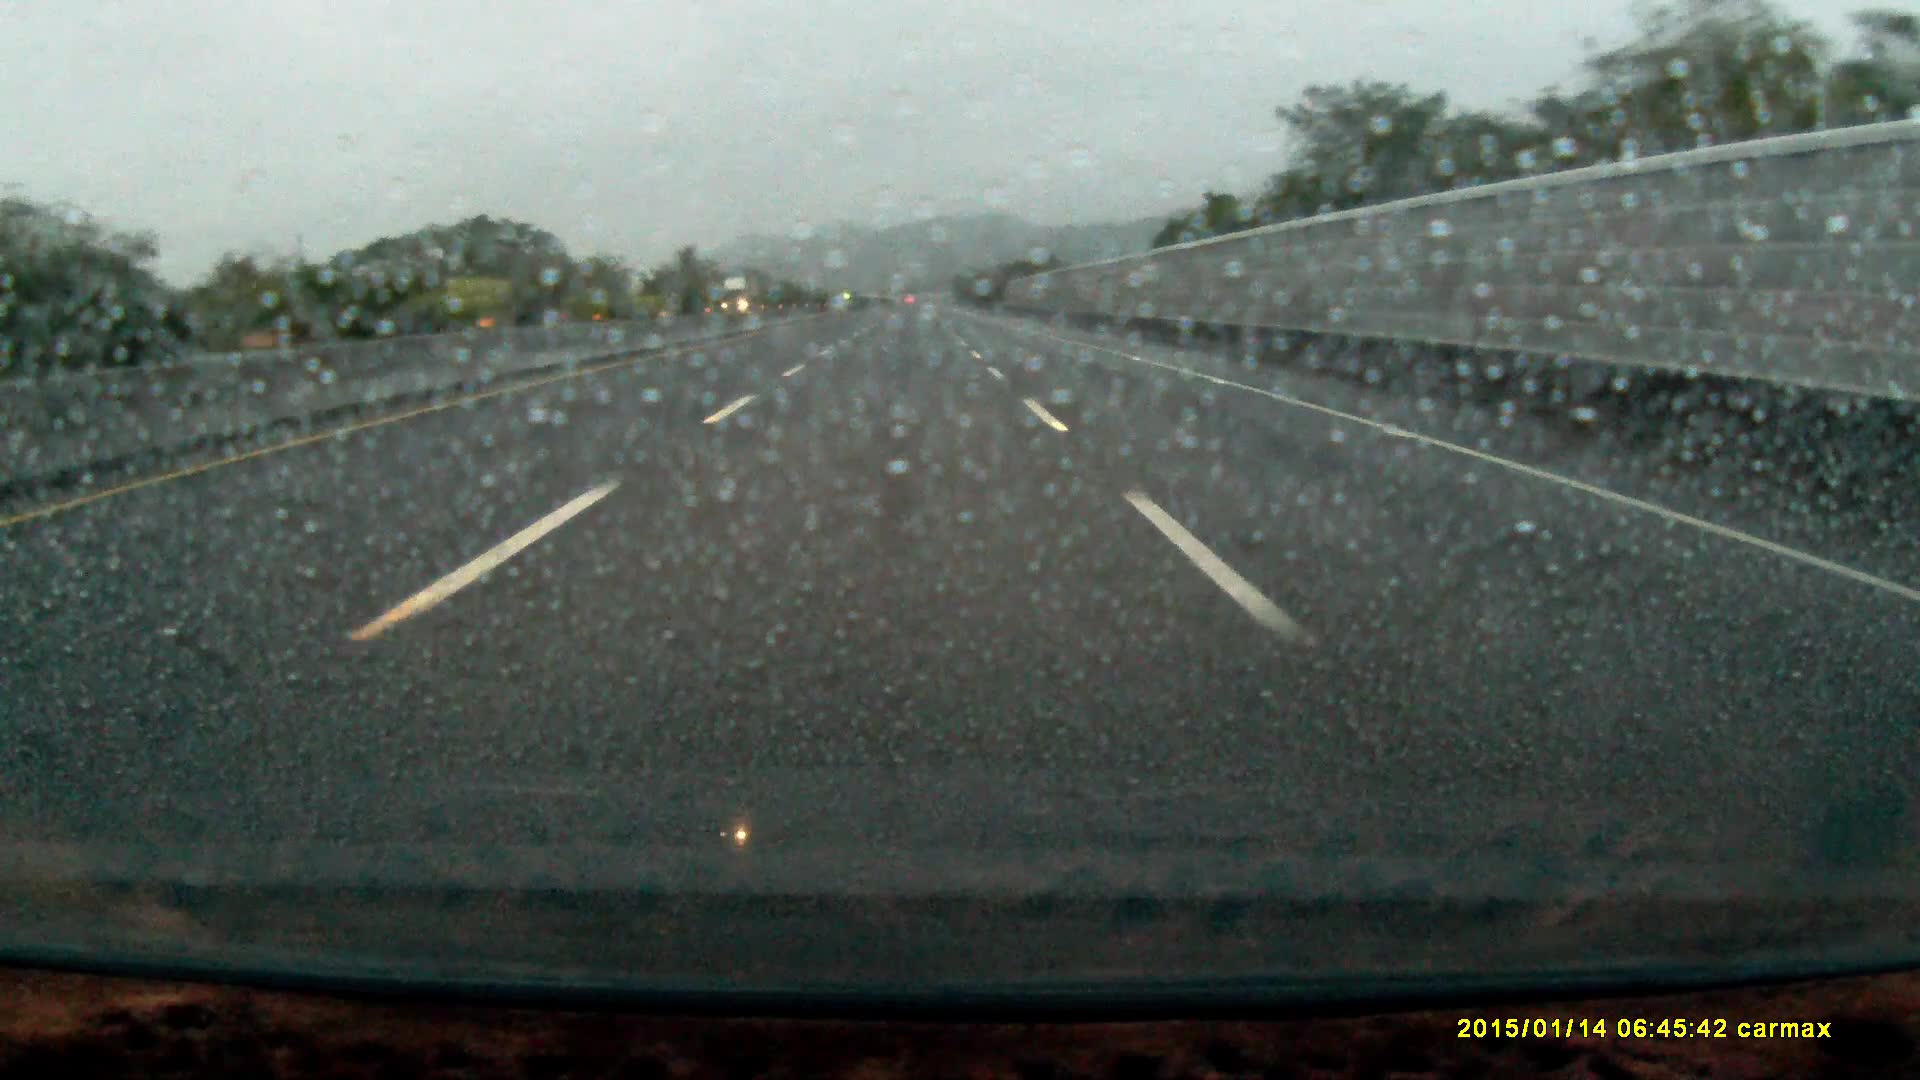vehicle: (719, 278, 760, 316)
